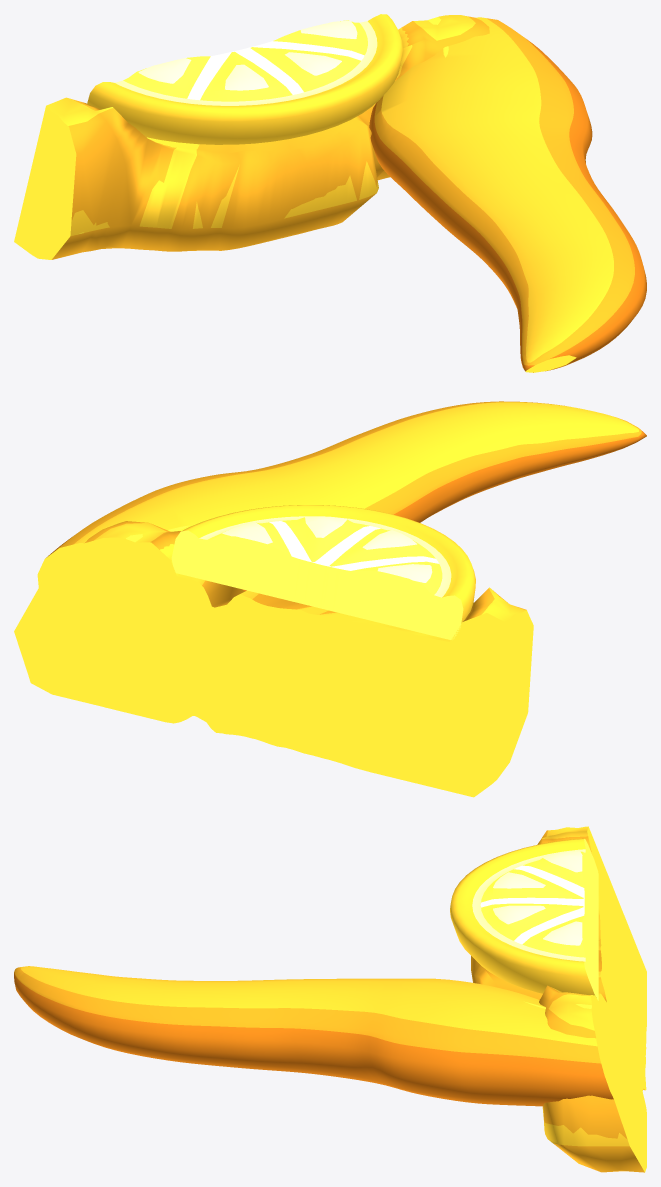
Rendered from lemon_beetle_br.glb.
3 views of the same model, one above another, from view 1: azimuth 30°, elevation 25°; view 2: azimuth 150°, elevation 25°; view 3: azimuth 270°, elevation 25° (orthographic). The views are drawn at different scales.
Parts seen in each view (by area): view 1: lemon_beetle_br; view 2: lemon_beetle_br; view 3: lemon_beetle_br.
Part boxes in pixels (box(x1,y1,x2,y2)): lemon_beetle_br: box(14, 14, 646, 372); lemon_beetle_br: box(14, 401, 646, 797); lemon_beetle_br: box(14, 826, 646, 1172).
Bounding box in the file's own units: 24 × 8.41 × 29.56.
